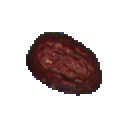gd: (18, 21, 117, 128)
